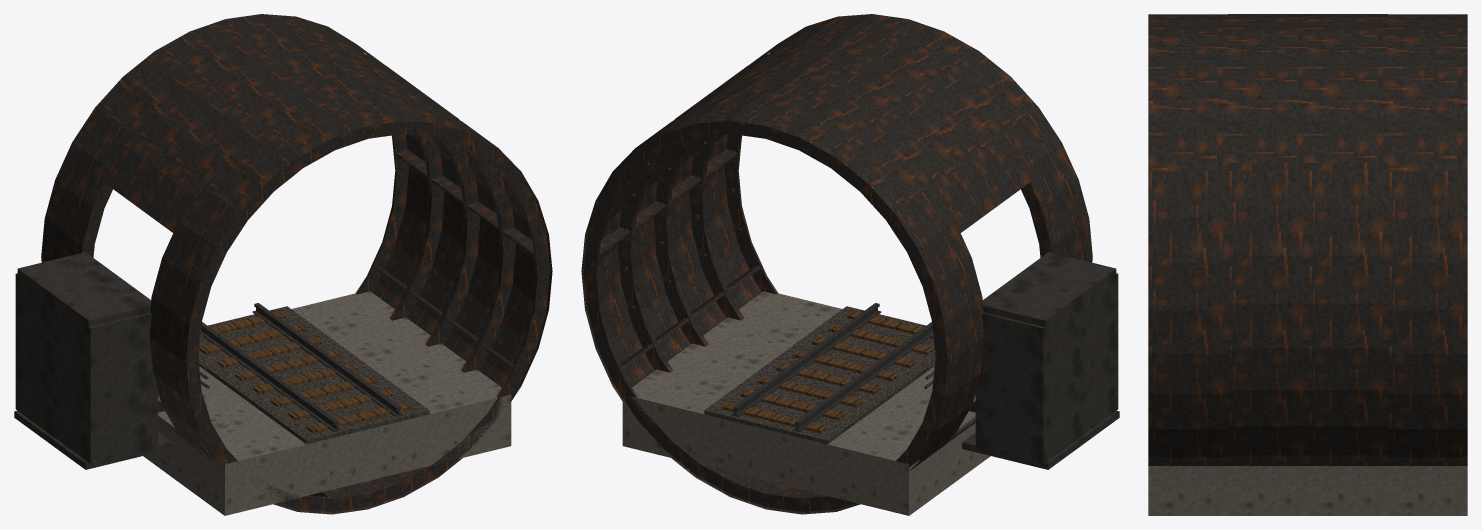
The model's file is tunnel_section_4m_niche.glb.
3 views of the same model, side by side, from view 1: azimuth 30°, elevation 25°; view 2: azimuth 150°, elevation 25°; view 3: azimuth 270°, elevation 25° (orthographic). The views are drawn at different scales.
Visible parts, largest first — view 1: TubingRings, TrackBed, Niche, Ballast, Sleepers, Rails; view 2: TubingRings, TrackBed, Niche, Ballast, Sleepers, Rails; view 3: TubingRings, TrackBed.
Part boxes in pixels (x1=…): TubingRings: x1=41, y1=14, x2=552, y2=514; TrackBed: x1=143, y1=291, x2=511, y2=515; Niche: x1=14, y1=252, x2=171, y2=469; Ballast: x1=198, y1=306, x2=429, y2=444; Sleepers: x1=199, y1=311, x2=411, y2=433; Rails: x1=200, y1=303, x2=402, y2=431; TubingRings: x1=581, y1=14, x2=1092, y2=514; TrackBed: x1=622, y1=291, x2=990, y2=515; Niche: x1=962, y1=252, x2=1119, y2=469; Ballast: x1=704, y1=306, x2=935, y2=444; Sleepers: x1=722, y1=311, x2=934, y2=433; Rails: x1=731, y1=303, x2=933, y2=431; TubingRings: x1=1148, y1=14, x2=1467, y2=465; TrackBed: x1=1148, y1=466, x2=1467, y2=515.
Size of what is drawn, in the model's own units: 6.99 by 5.98 by 4.
8 materials, 7 textured.
